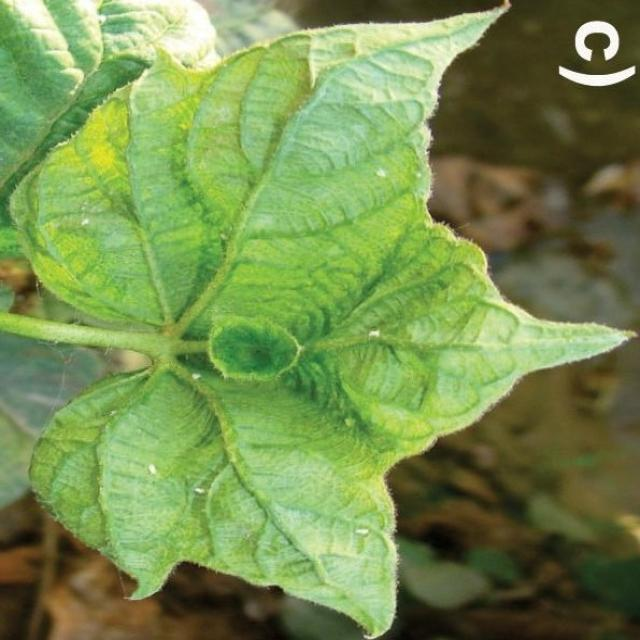Leaf Curl Virus: (98, 92, 394, 525)
